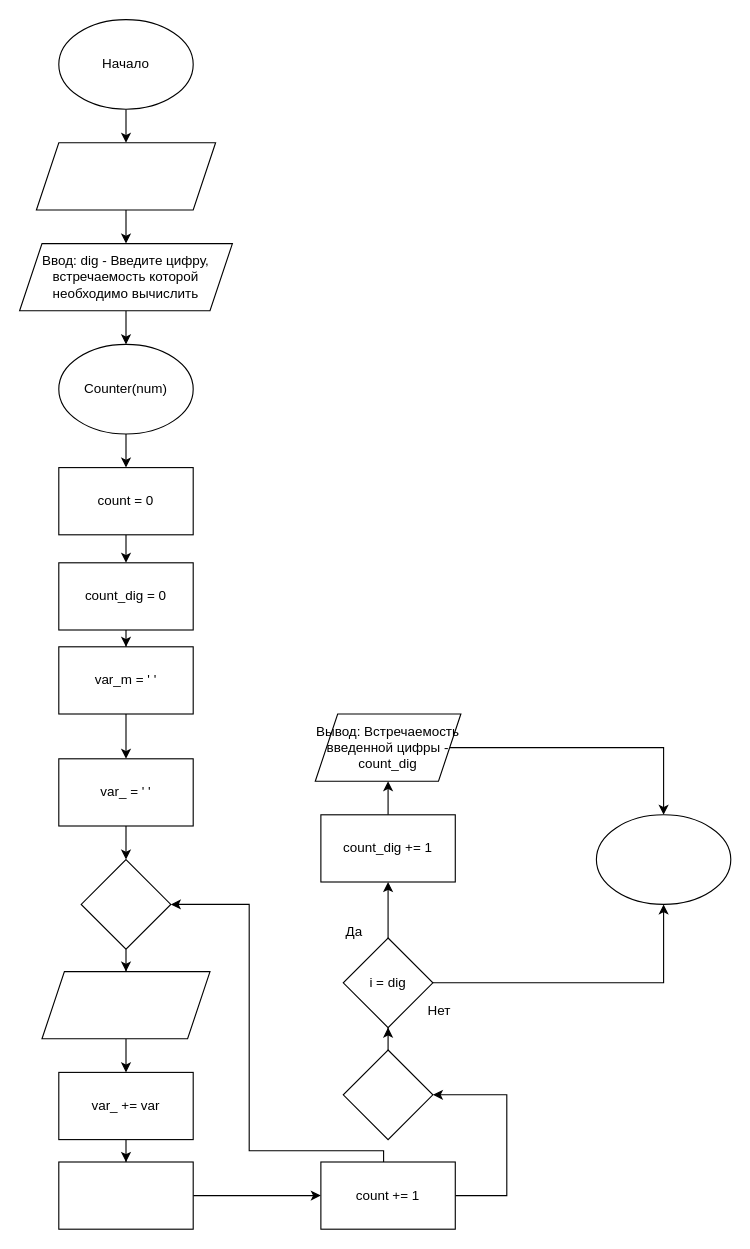
Image size: 750x1249. Some labels were removed from this diagram. The centre of each missing label's shape, as x and y in pixels:
"count < num" goes at pixel 125 903.
"i in var_m" goes at pixel 387 1094.
"var_m = ' '.join(var_)" goes at pixel 125 1195.
"Ввод: num - Введите требуемое количество чисел" goes at pixel 125 176.
"Ввод: num - Введите число" goes at pixel 125 1004.
"Конец" goes at pixel 663 859.
